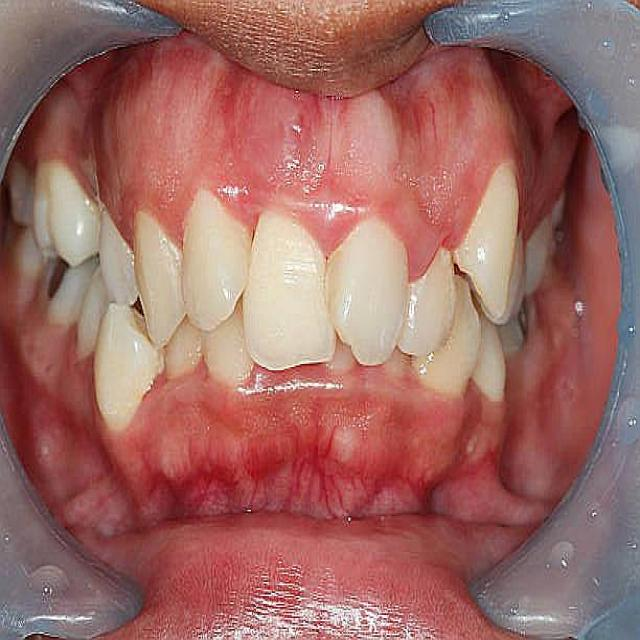caries: (39, 244, 84, 324), (501, 288, 539, 363)
